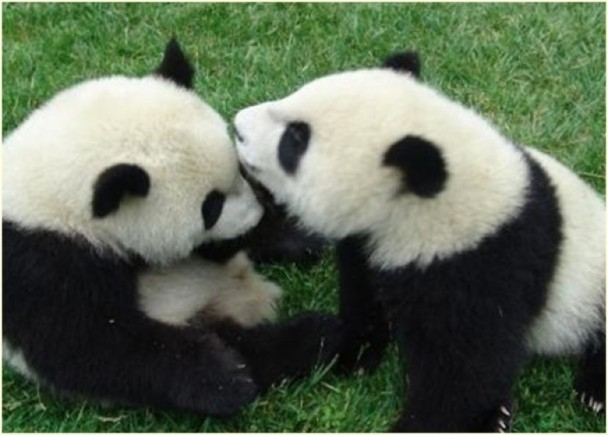panda: (233, 49, 608, 434), (1, 31, 347, 417)
